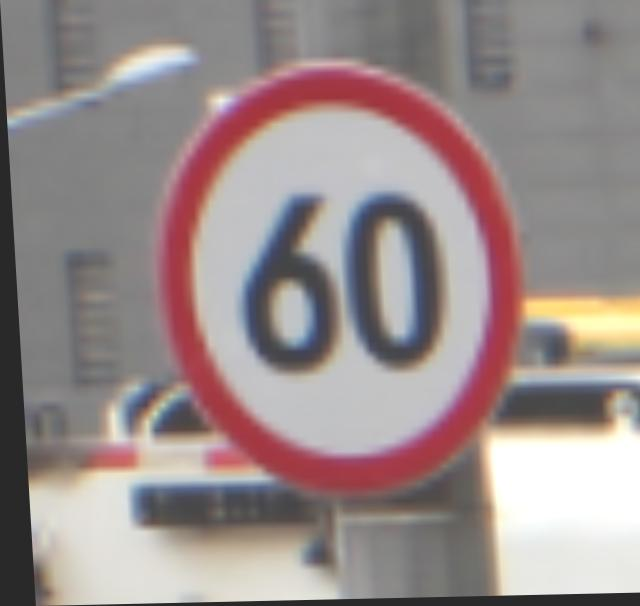limit60: (136, 48, 538, 509)
